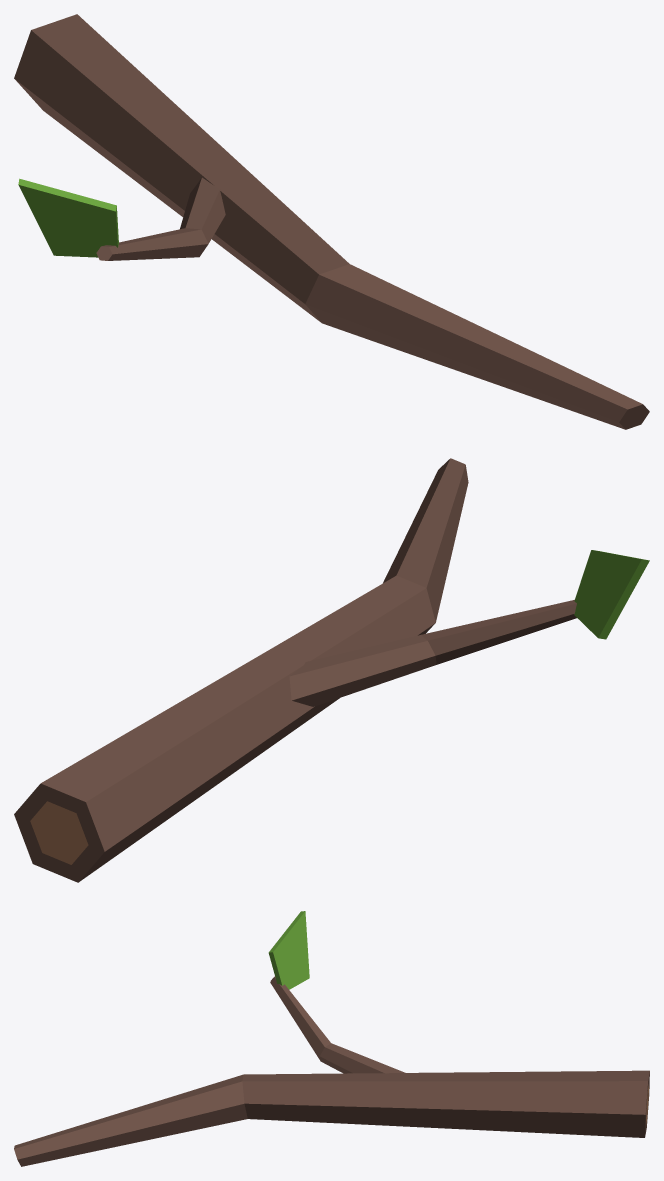
The model's file is Branch_02.fbx.
The picture shows the model from 3 angles, top to bottom: view 1: azimuth 30°, elevation 25°; view 2: azimuth 150°, elevation 25°; view 3: azimuth 270°, elevation 25°; orthographic projection. The views are drawn at different scales.
Visible parts, largest first — view 1: Branch_02; view 2: Branch_02; view 3: Branch_02.
Boxes of the visible parts, <box> form: Branch_02: <box>14,14,649,429</box>; Branch_02: <box>14,458,649,882</box>; Branch_02: <box>14,911,649,1166</box>.
Bounding box in the file's own units: 99.18 × 43.19 × 198.
